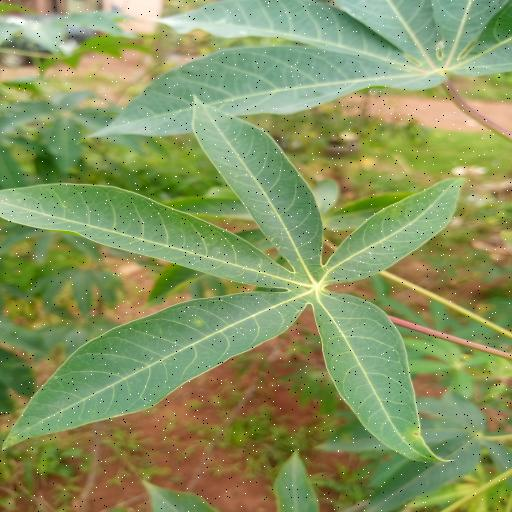Cassava_Mosaic: (0, 99, 466, 467)
